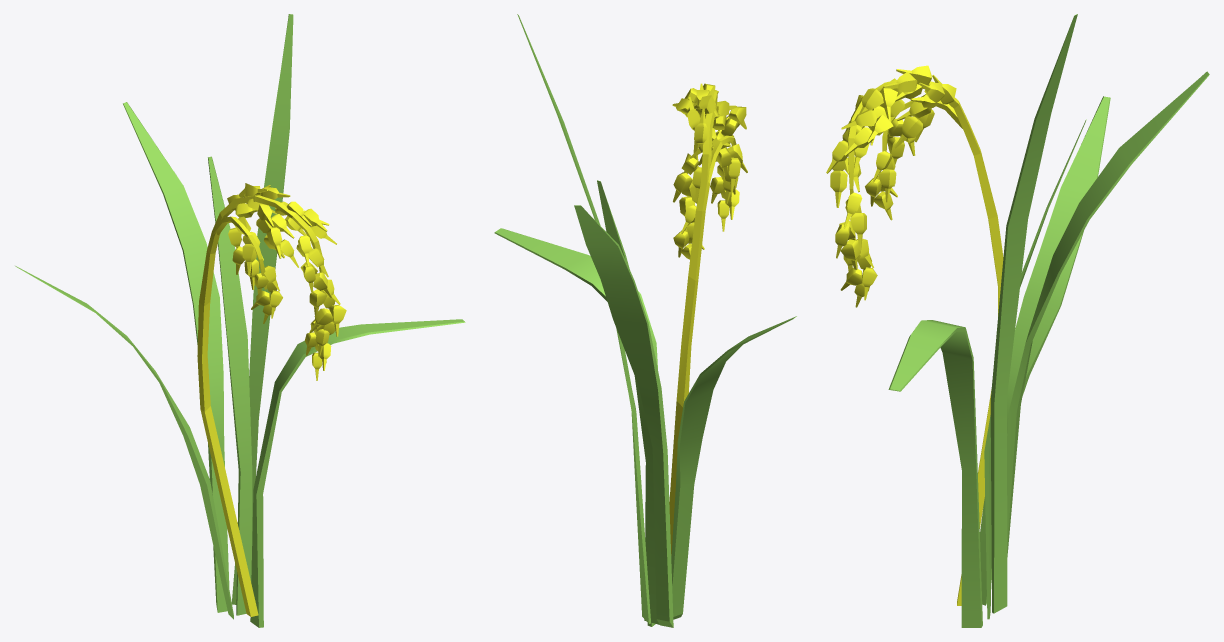
Rendered from lua_chin.glb.
The picture shows the model from 3 angles, left to right: view 1: azimuth 30°, elevation 25°; view 2: azimuth 150°, elevation 25°; view 3: azimuth 270°, elevation 25°; orthographic projection. The views are drawn at different scales.
Parts seen in each view (by area): view 1: Object_3, Object_4; view 2: Object_3, Object_4; view 3: Object_3, Object_4.
Part boxes in pixels (bbox=[...]): Object_3: bbox=[15, 14, 465, 627]; Object_4: bbox=[197, 183, 346, 616]; Object_3: bbox=[494, 14, 796, 627]; Object_4: bbox=[669, 83, 747, 555]; Object_3: bbox=[888, 14, 1209, 627]; Object_4: bbox=[826, 65, 1003, 605].
Size of the model in its own units: 37.52 by 55.88 by 29.6.
